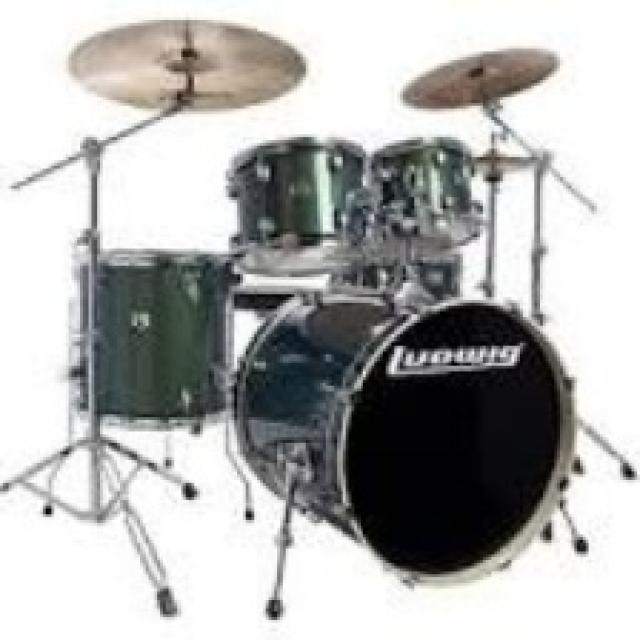drums: (0, 15, 640, 627)
